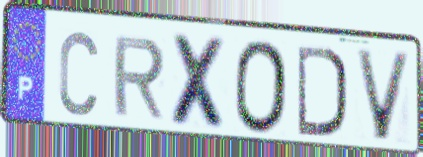C: (56, 27, 100, 119)
D: (295, 42, 350, 141)
O: (232, 37, 290, 137)
R: (111, 34, 168, 121)
V: (352, 47, 414, 145)
X: (169, 31, 231, 134)
